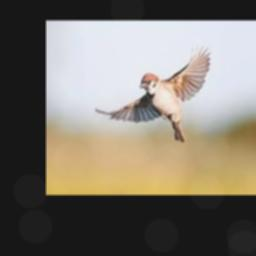Sparrow: (95, 44, 212, 142)
